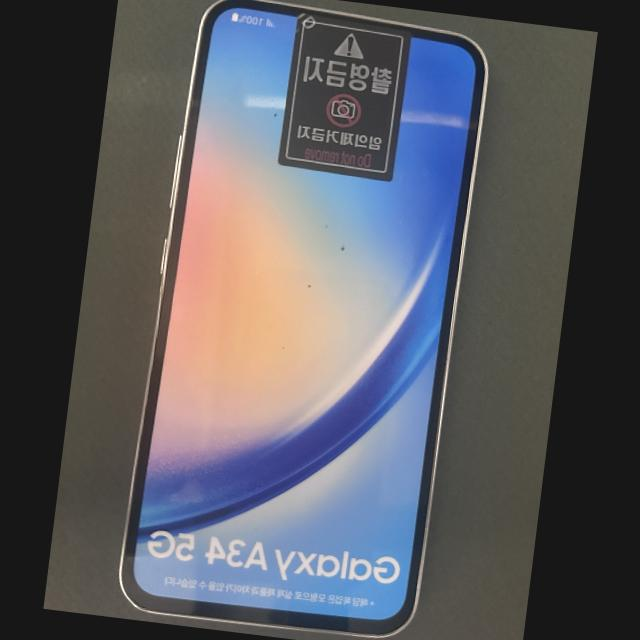phone: (120, 0, 486, 635)
sticker: (278, 13, 410, 181)
